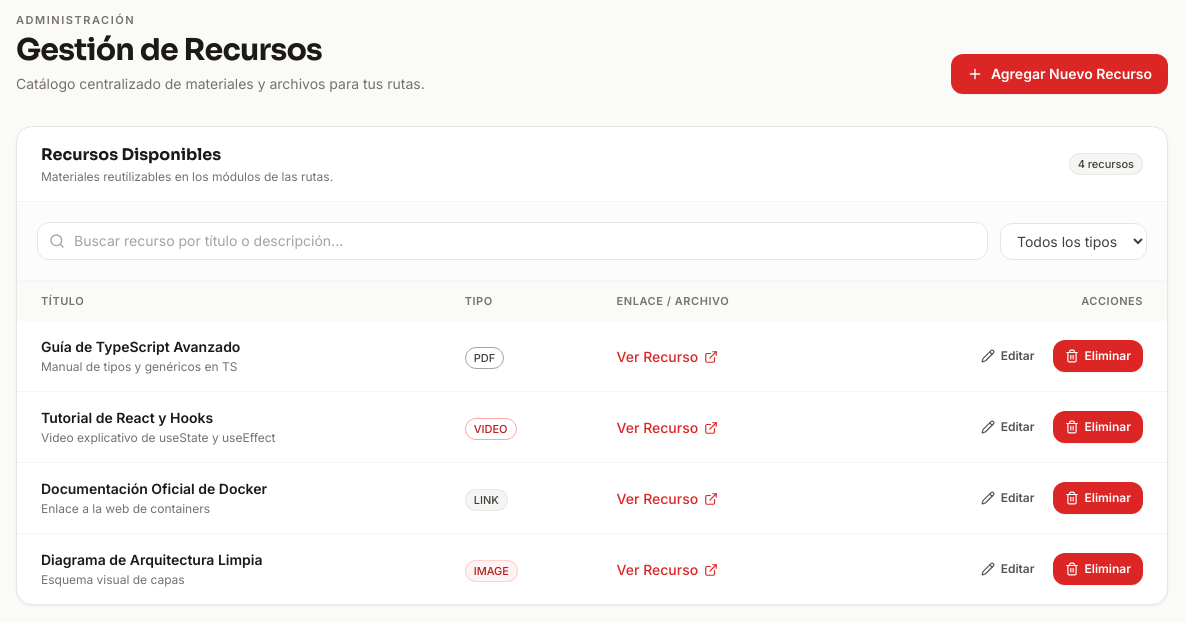
Test: ResourcesManager — Búsqueda y Filtros › filtra recursos en tiempo real según el término de búsqueda
This screenshot has width=1185, height=623.
Expected: the text "Guía de TypeScript Avanzado" is shown, [41, 338, 240, 355]
Type "react" into the field with placeholder "Buscar recurso por título o descripción..." at (512, 241), box [37, 222, 988, 260]
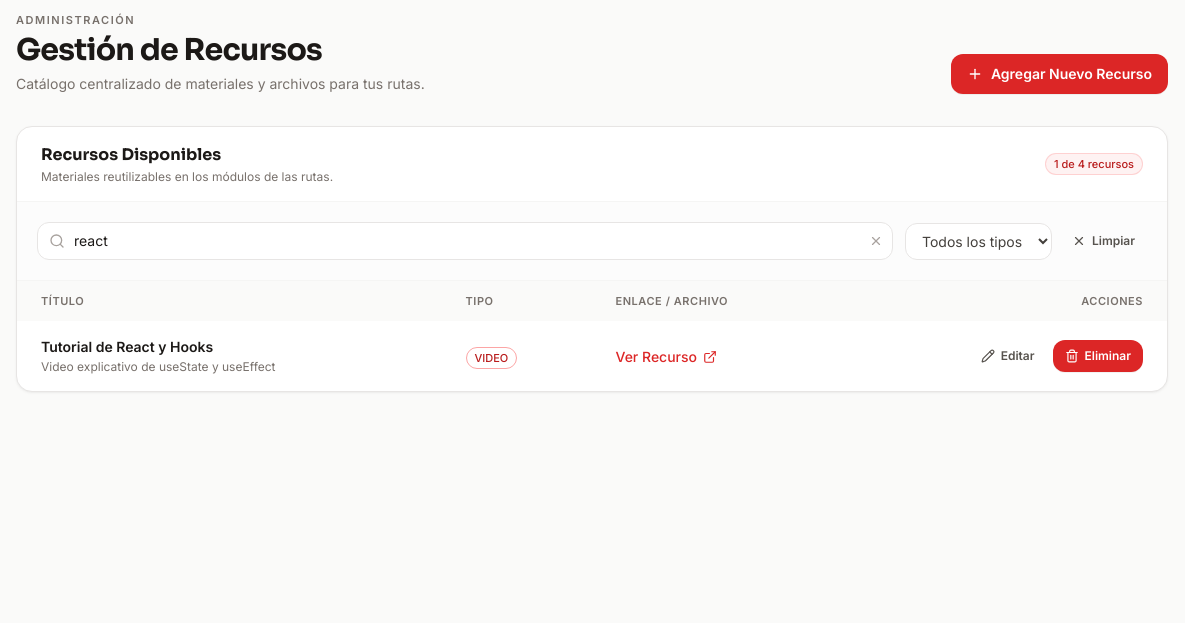
Expected: the text "Guía de TypeScript Avanzado" is gone
Expected: the text "Documentación Oficial de Docker" is gone
Expected: the text "1 de 4 recursos" is shown, [1045, 153, 1143, 175]
